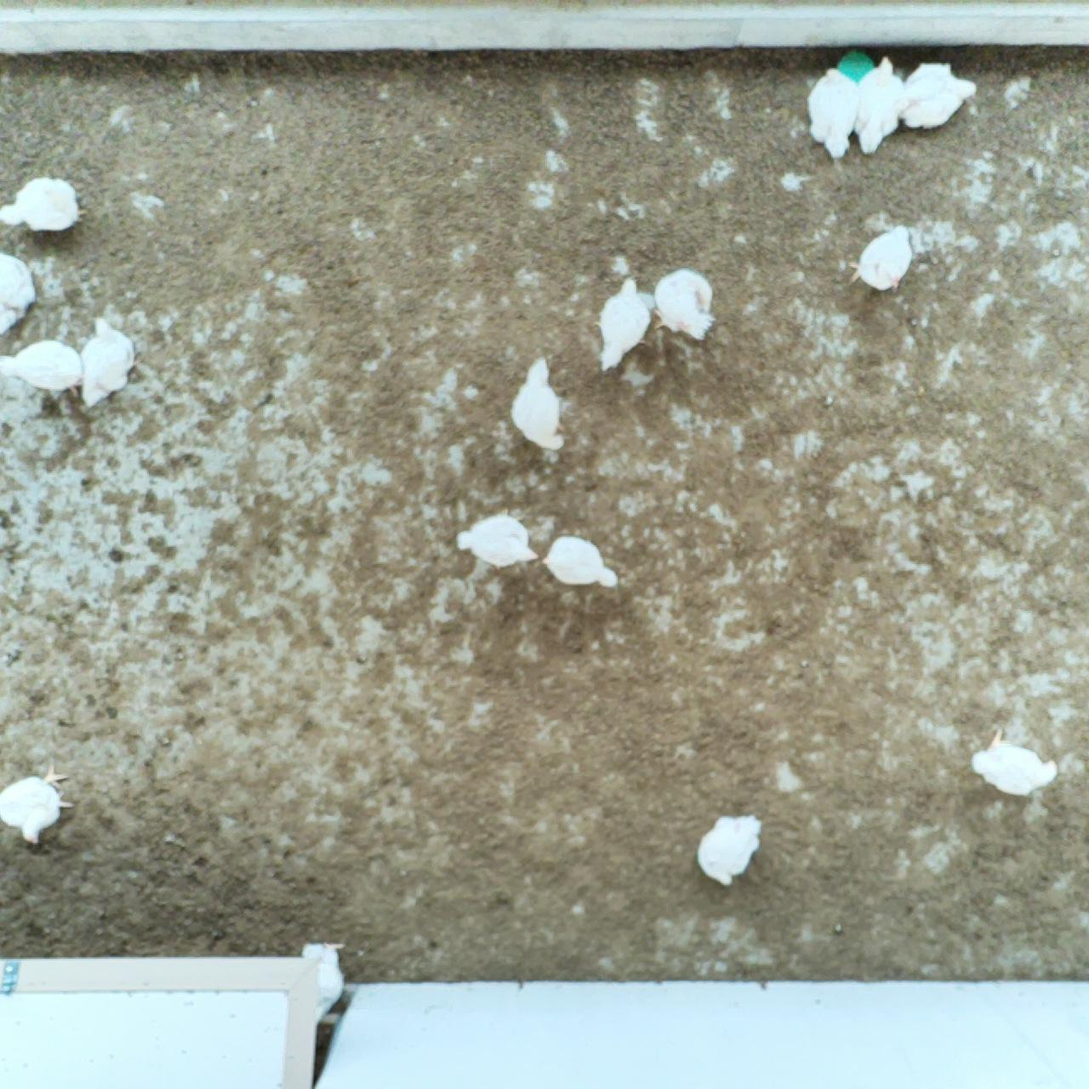chicken: (0, 754, 82, 848), (968, 724, 1064, 800), (504, 353, 569, 458), (895, 59, 982, 135), (77, 313, 145, 408), (842, 219, 917, 305), (853, 52, 911, 161), (592, 274, 653, 377), (0, 173, 92, 241), (692, 811, 769, 890), (801, 67, 862, 162), (456, 506, 539, 575), (651, 266, 717, 343), (0, 339, 85, 397), (540, 532, 621, 592), (298, 936, 348, 1026), (0, 249, 37, 341)
